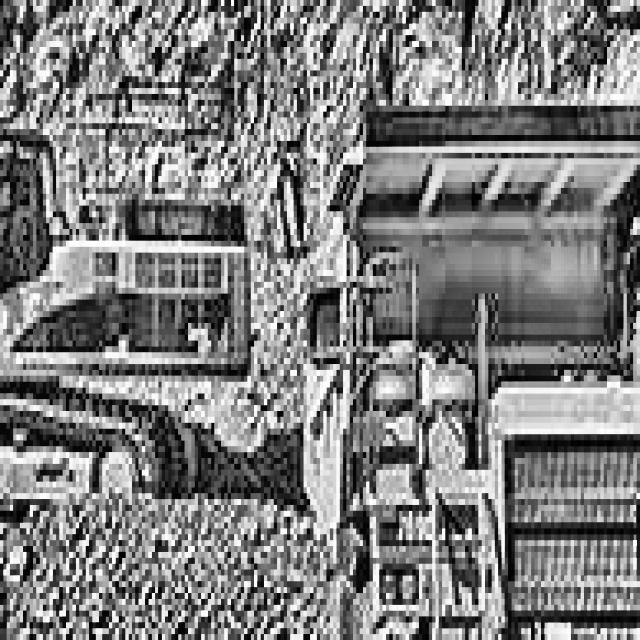dump_truck: (274, 29, 640, 640)
excavator: (0, 0, 280, 522)
